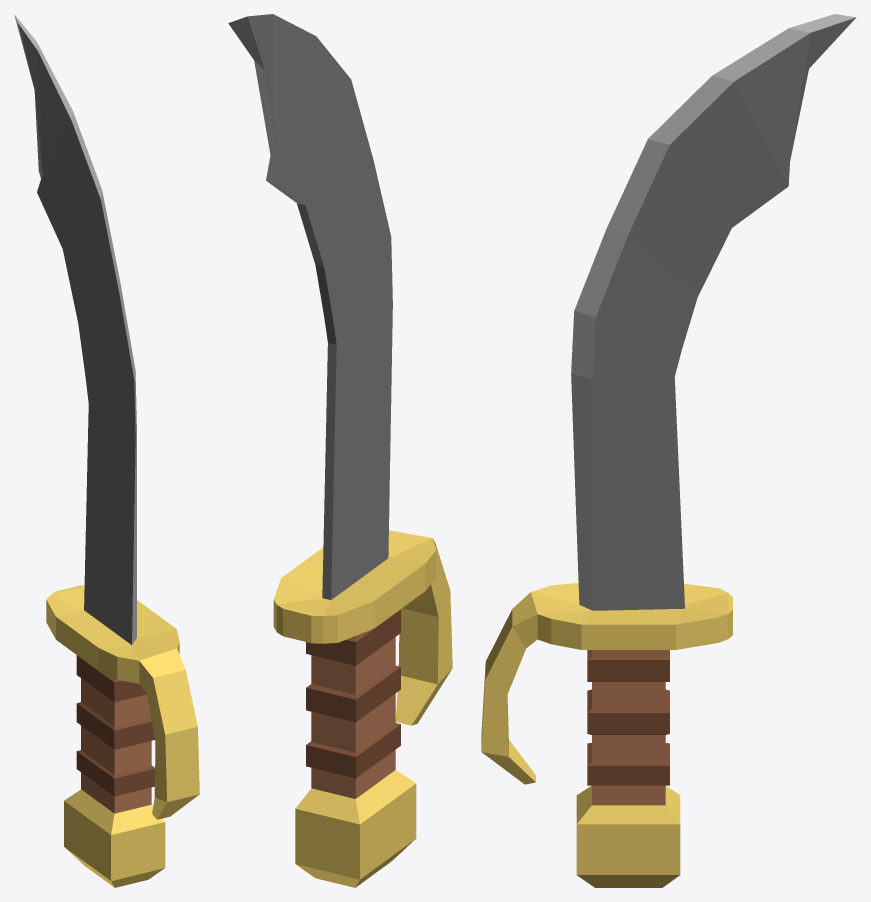
The model's file is knife001.fbx.
3 renders of one model, left to right at view 1: azimuth 30°, elevation 25°; view 2: azimuth 150°, elevation 25°; view 3: azimuth 270°, elevation 25°, orthographic. The views are drawn at different scales.
Parts seen in each view (by area): view 1: Box002; view 2: Box002; view 3: Box002.
Part boxes in pixels (x1,y1,x2,y2): Box002: [14, 14, 199, 887]; Box002: [228, 14, 452, 887]; Box002: [481, 14, 856, 887].
Bounding box in the file's own units: 0.5775 × 5.54 × 2.19.
Materials: 1 (1 with a texture image).
